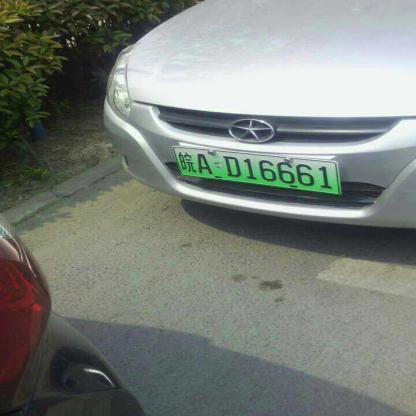lp: (172, 147, 338, 194)
